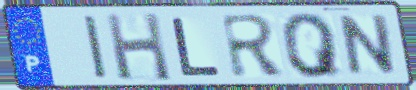H: (102, 10, 175, 83)
I: (81, 13, 112, 82)
L: (170, 15, 224, 78)
N: (338, 12, 399, 78)
Q: (279, 11, 346, 81)
R: (218, 12, 289, 81)
